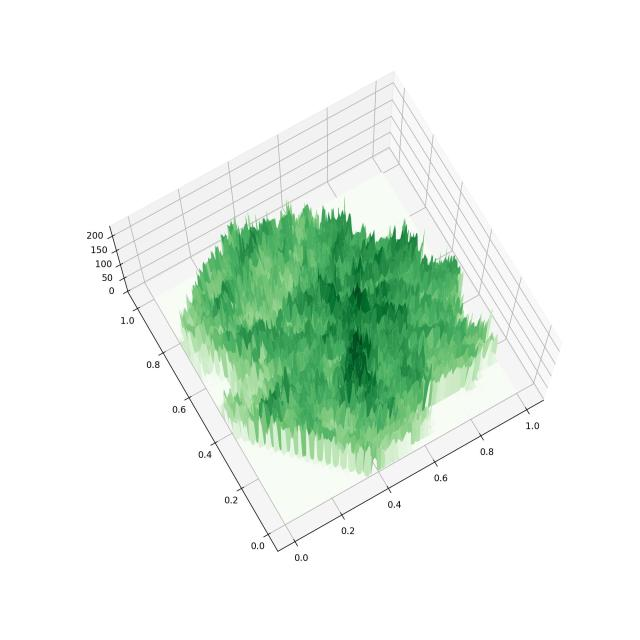spruce: (62, 33, 588, 566)
